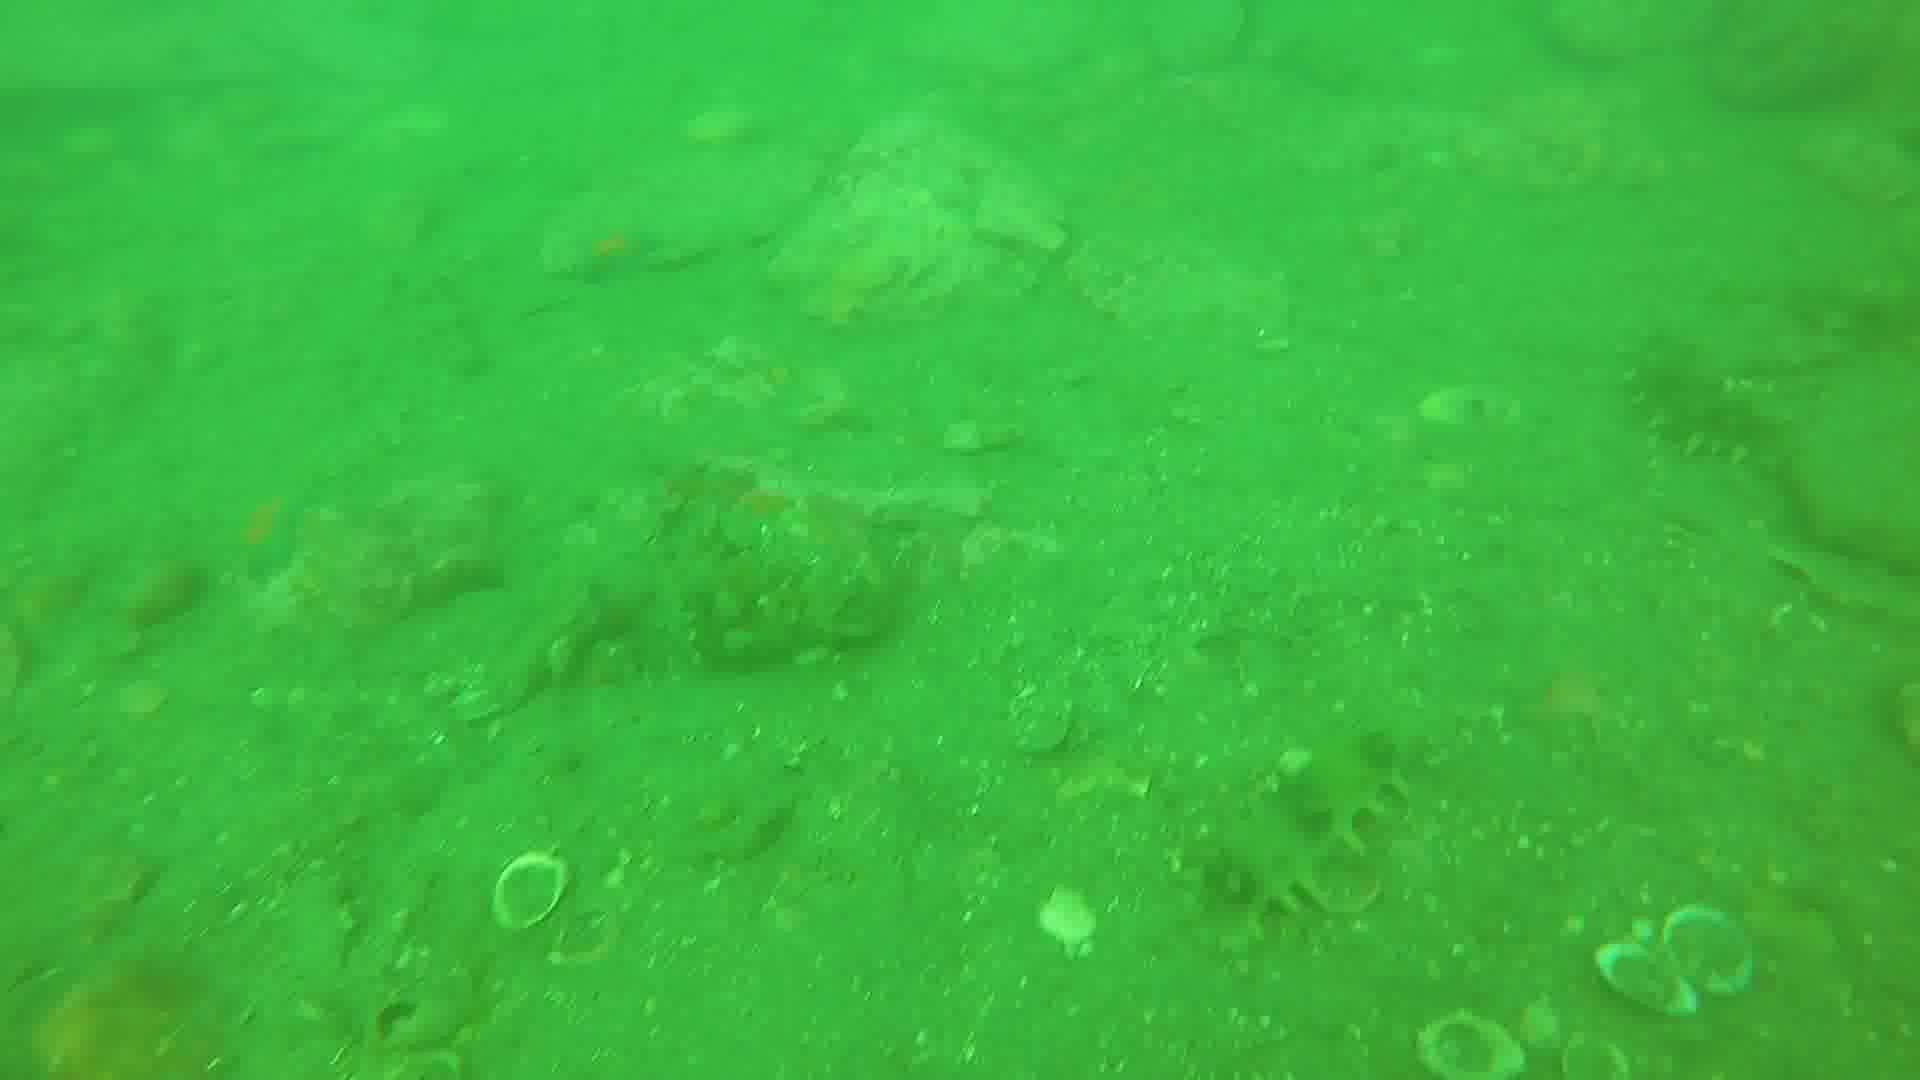holothurian: (1189, 715, 1429, 951), (1627, 324, 1800, 473)
scallop: (1600, 913, 1774, 1025), (1425, 1011, 1527, 1080), (489, 860, 576, 936), (1552, 1038, 1630, 1080)
starfish: (223, 477, 320, 593), (574, 223, 665, 280)
